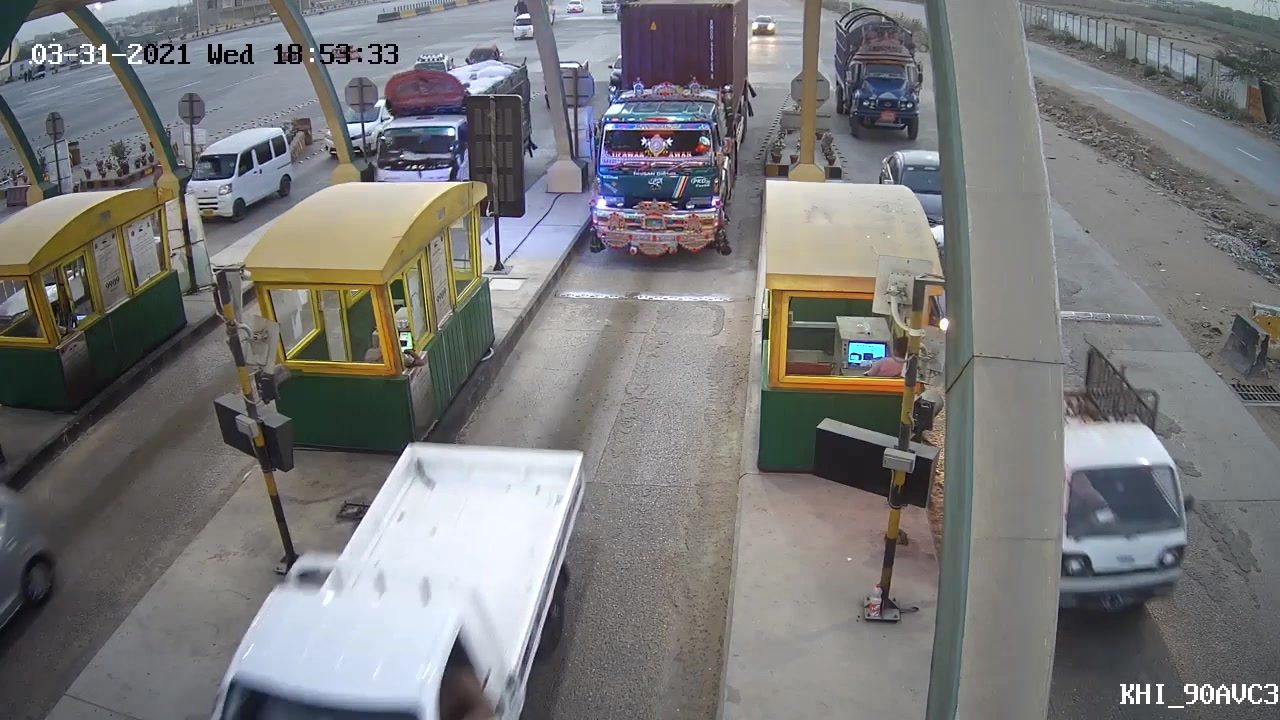F6: (589, 1, 763, 258)
